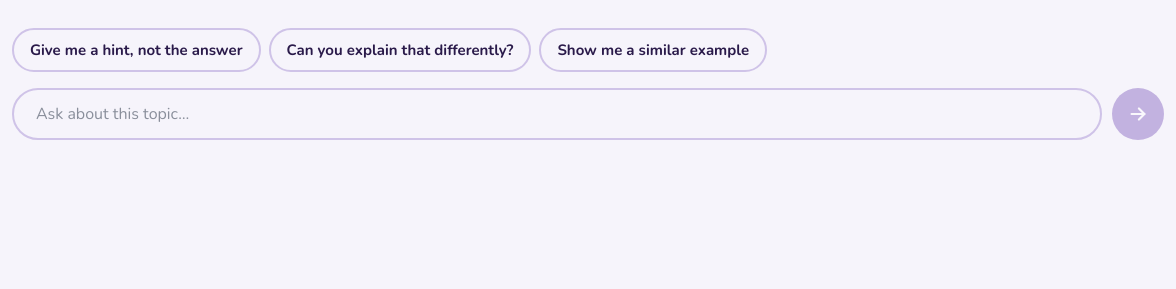
Test: TutorChat › renders the learner's question and streams deltas into the tutor bubble
Step 1. Type "why does it need light?" into the field with placeholder "Ask about this topic…" → {"x": 557, "y": 114}, box [12,88,1102,140]
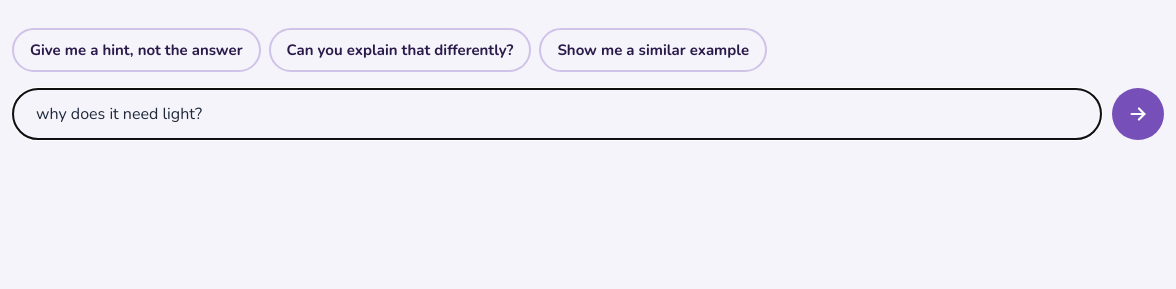
Step 2. Click the button named "send" → {"x": 1138, "y": 114}, box [1112,88,1164,140]
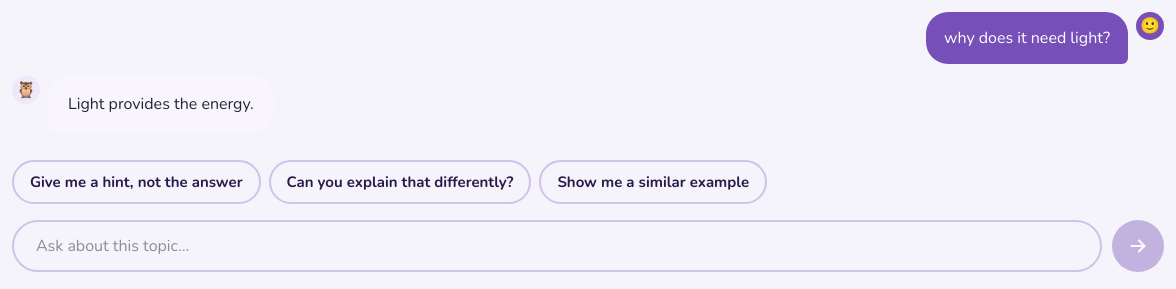
Result: the text with test id "tutor-chat-learner-message" reads "why does it need light?" at [944,27,1110,49]
Result: the element with test id "tutor-chat-tutor-message" reads "Light provides the energy." at [68,93,254,115]
